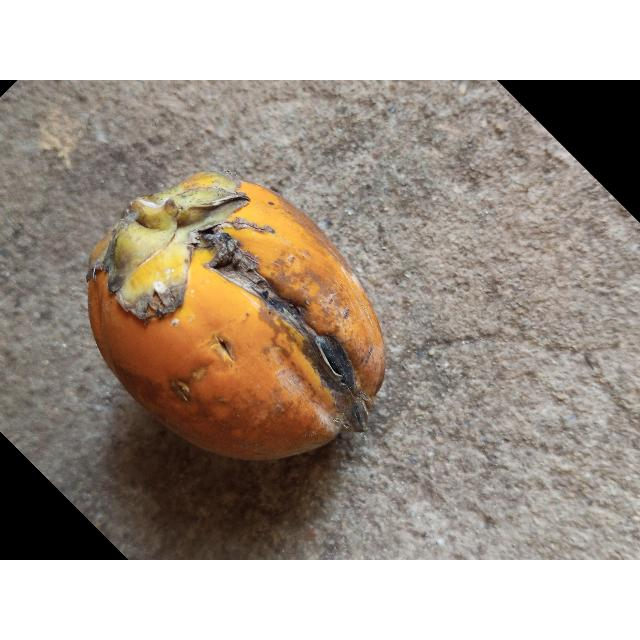damaged: (87, 172, 385, 459)
